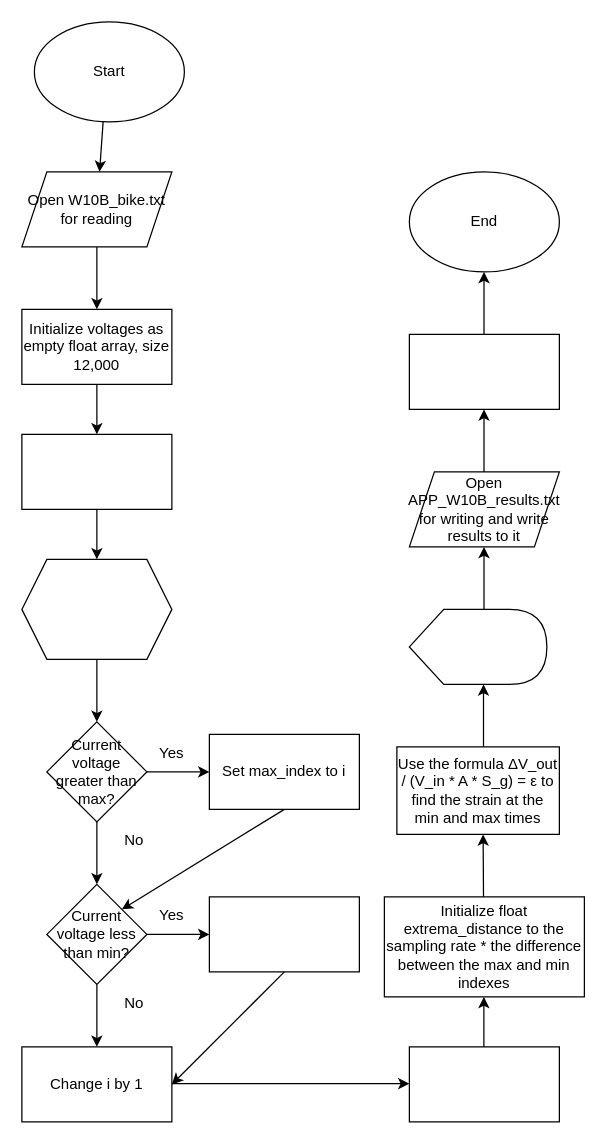
Some shapes in this 606 by 1144 pixel diagram are drawn without their labels. The box of each missing label's shape, as (x1, y1, x2, y2) in pixels:
Close input and output files: (408, 333, 559, 409)
Initialize integers i, max_index, and min_index to 0: (21, 433, 172, 509)
Initialize voltage_initial to the first value of the voltages array: (408, 1046, 559, 1122)
Set min_index to i: (208, 896, 359, 972)
While scanning the input file doesn't return EOF:: (21, 558, 172, 659)
Write results to screen: (408, 608, 547, 684)
